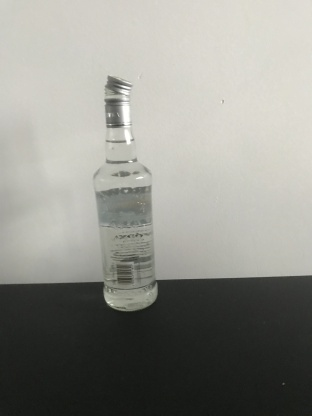nakretka: (102, 71, 134, 129)
